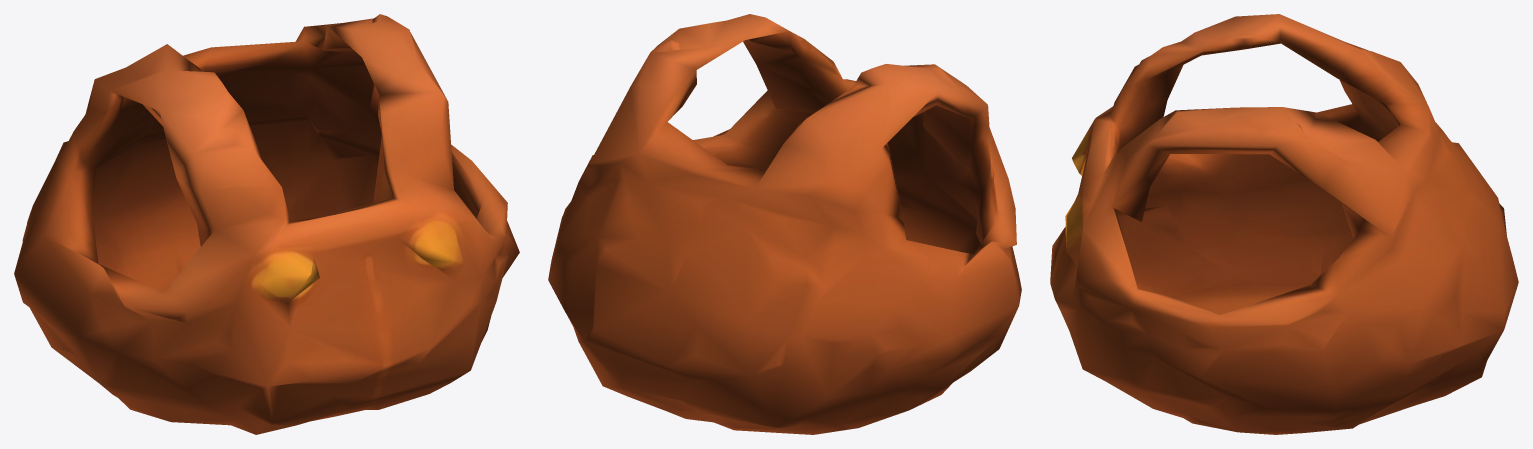
File: bear-body.glb
3 renders of one model, left to right at view 1: azimuth 30°, elevation 25°; view 2: azimuth 150°, elevation 25°; view 3: azimuth 270°, elevation 25°, orthographic. The views are drawn at different scales.
Visible parts, largest first — view 1: tripo_node_87322218; view 2: tripo_node_87322218; view 3: tripo_node_87322218.
Boxes of the visible parts, <box> form: tripo_node_87322218: <box>14,14,519,434</box>; tripo_node_87322218: <box>548,14,1021,434</box>; tripo_node_87322218: <box>1050,14,1518,434</box>.
Bounding box in the file's own units: 0.539 × 0.386 × 0.533.
1 material, 1 textured.
